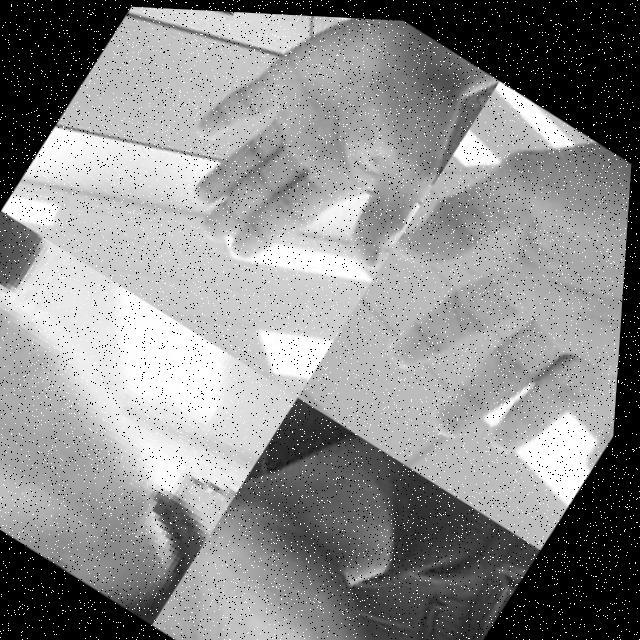no-gloves: (318, 69, 637, 510), (143, 7, 499, 330), (159, 428, 531, 640), (0, 242, 207, 577)
